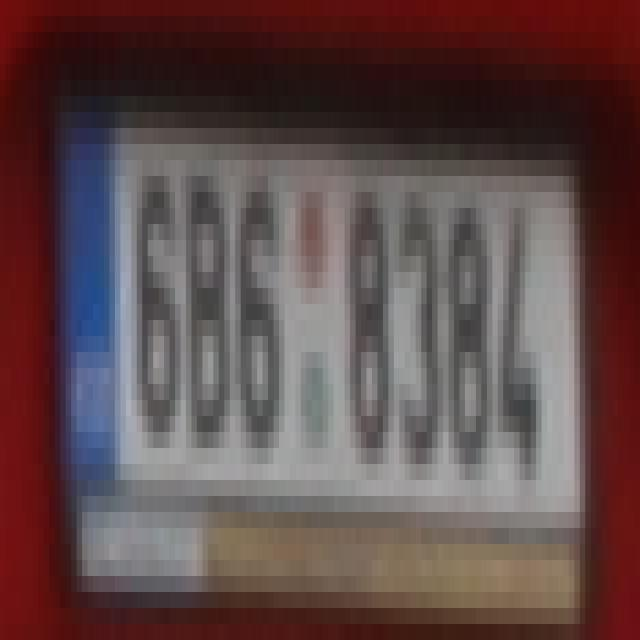3: (399, 192, 443, 448)
4: (492, 208, 542, 464)
6: (126, 160, 180, 432), (236, 176, 284, 448)
8: (438, 176, 487, 464), (339, 192, 388, 448)
B: (180, 160, 224, 432)
